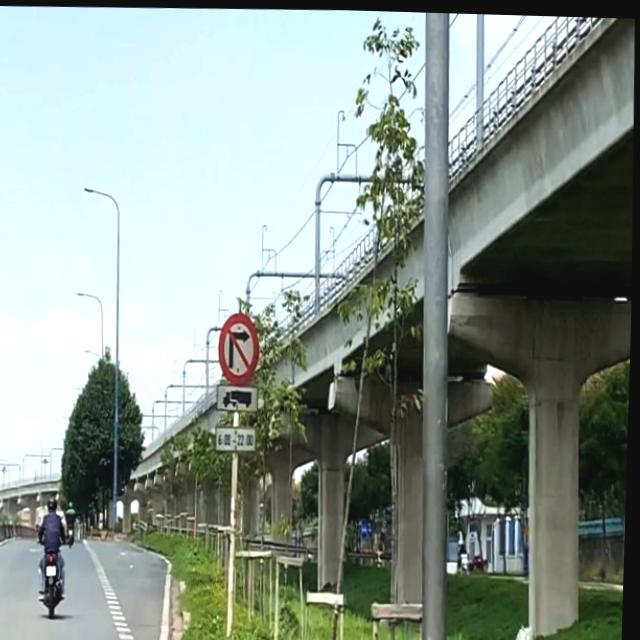Cam re phai: (220, 301, 265, 385)
